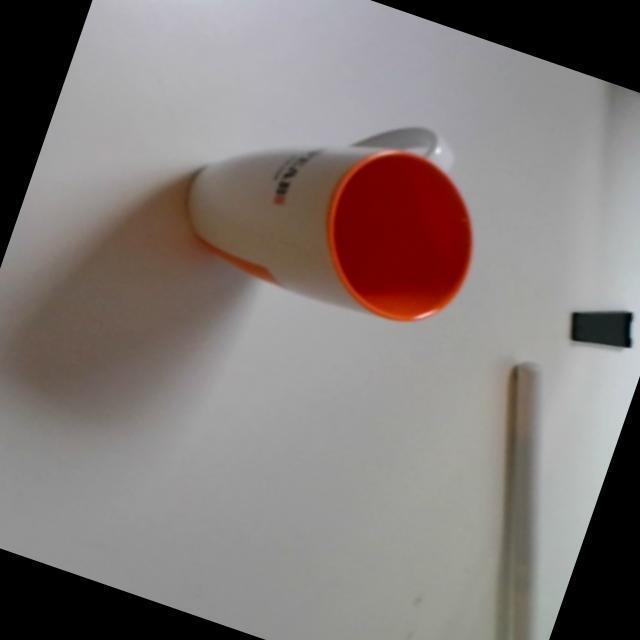cup: (164, 60, 512, 348)
